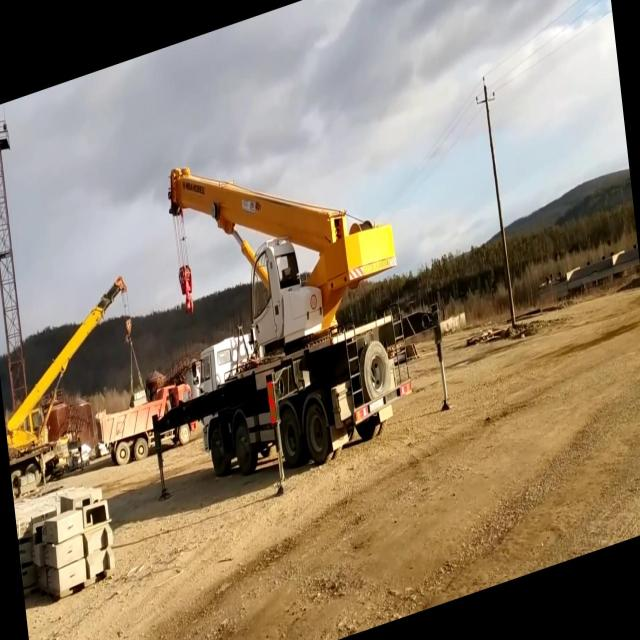crane: (120, 80, 457, 536), (0, 272, 147, 497)
